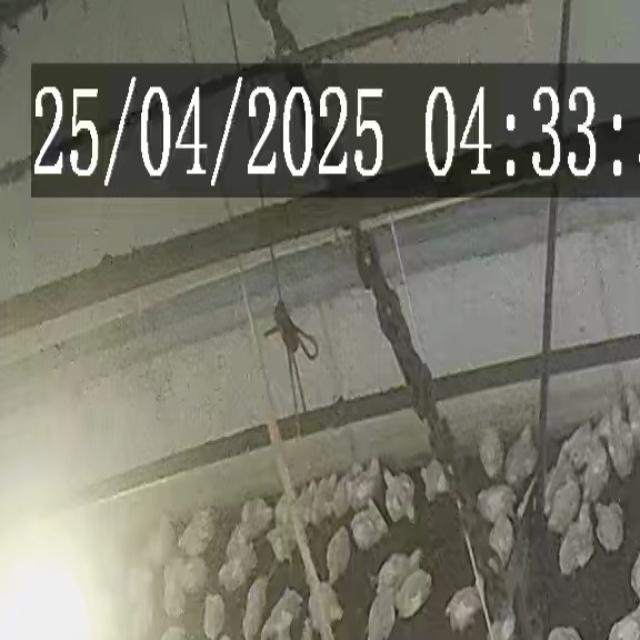chicken: (444, 574, 484, 628), (592, 500, 629, 554), (564, 502, 591, 575), (395, 571, 432, 622), (351, 501, 391, 547), (384, 468, 418, 522), (375, 543, 418, 585), (508, 427, 538, 486), (174, 511, 215, 552), (552, 474, 580, 530), (367, 590, 397, 640), (326, 530, 355, 581), (354, 462, 384, 510), (247, 577, 271, 636), (311, 583, 344, 624), (479, 423, 503, 479), (420, 464, 455, 501), (482, 488, 518, 522), (236, 498, 273, 531), (337, 470, 361, 514), (203, 593, 226, 636), (494, 520, 514, 562)
